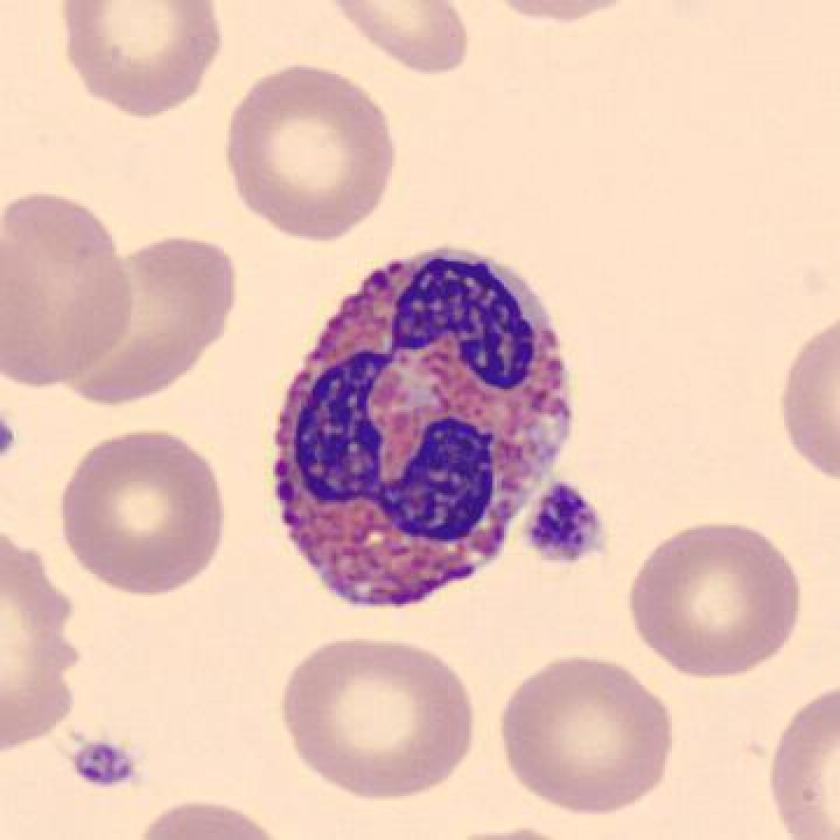eosinophil: (263, 237, 592, 621)
